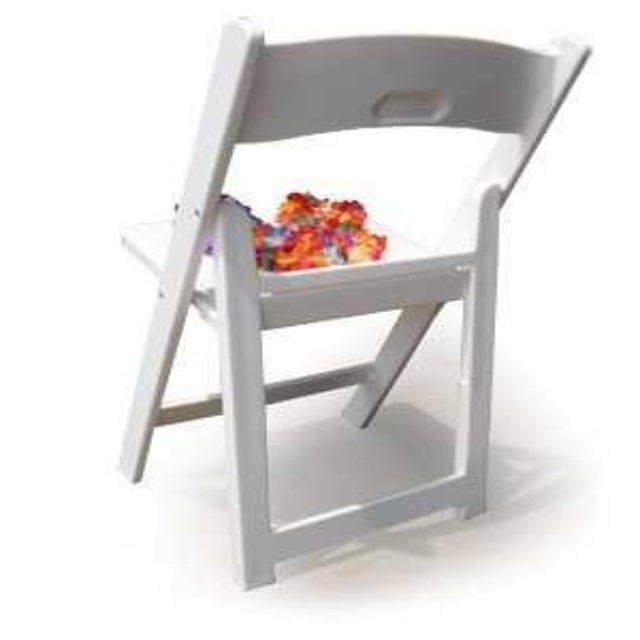obstacle: (119, 22, 587, 586)
